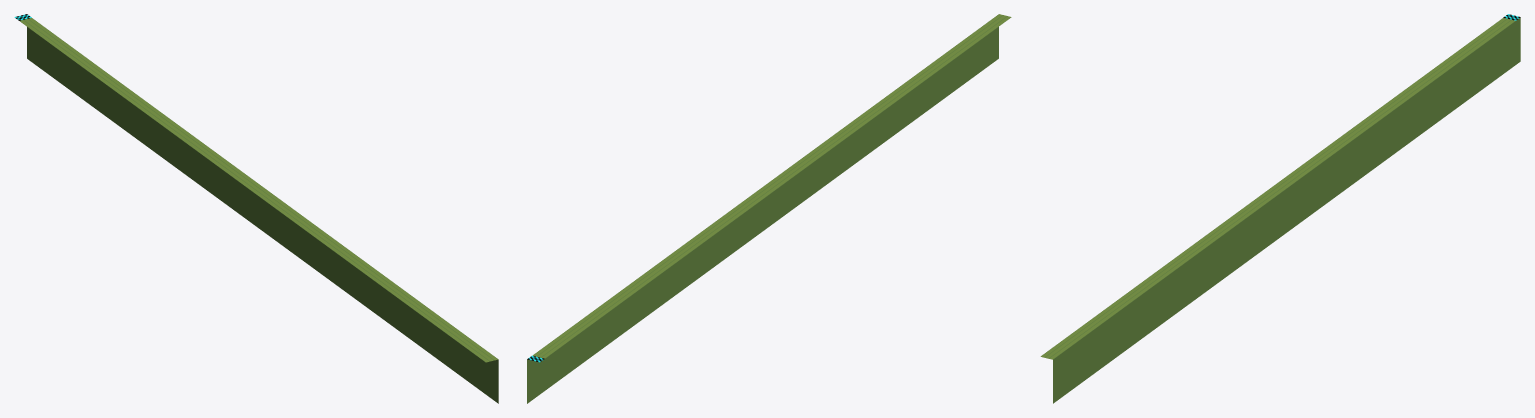
The model's file is Roud Lvl 1.fbx.
The picture shows the model from 3 angles, left to right: view 1: azimuth 30°, elevation 25°; view 2: azimuth 150°, elevation 25°; view 3: azimuth 330°, elevation 25°; orthographic projection.
Visible parts, largest first — view 1: roud; view 2: roud; view 3: roud.
Part boxes in pixels (<box>): roud: <box>20,18,498,403</box>; roud: <box>527,14,1011,403</box>; roud: <box>1040,17,1520,403</box>.
Bounding box in the file's own units: 600 × 2010 × 38400.
